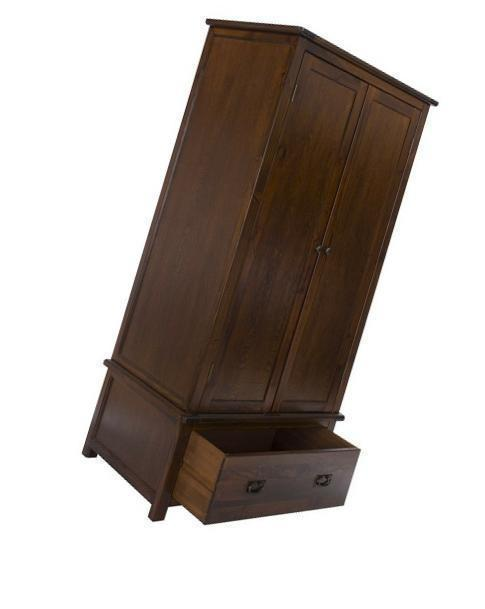Armario: (83, 17, 443, 540)
